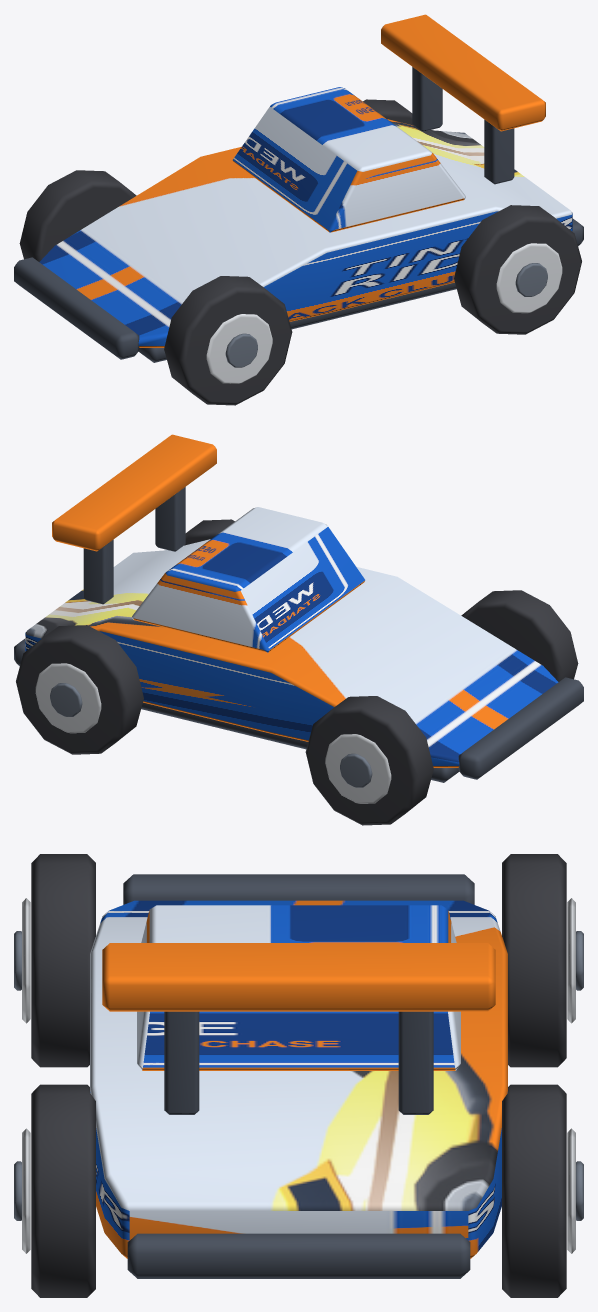
3 renders of one model, top to bottom at view 1: azimuth 30°, elevation 25°; view 2: azimuth 150°, elevation 25°; view 3: azimuth 270°, elevation 25°, orthographic. The views are drawn at different scales.
Visible parts, largest first — view 1: TC-02_connected_shell, TC-02_cabin, Tire, Tire.002, rear airfoil, Tire.001, front bumper, Rim, Rim.002, wing support, underbody, wing support.001 (+3 smaller); view 2: TC-02_connected_shell, TC-02_cabin, Tire.001, Tire.003, rear airfoil, Tire, front bumper, Rim.001, Rim.003, wing support.001, underbody, wing support (+3 smaller); view 3: TC-02_connected_shell, rear airfoil, TC-02_cabin, rear bumper, Tire.002, Tire.003, Tire, Tire.001, front bumper, wing support, wing support.001, Rim (+3 smaller).
Part boxes in pixels (x1=…): TC-02_connected_shell: x1=39, y1=119, x2=572, y2=347; TC-02_cabin: x1=232, y1=87, x2=465, y2=232; Tire: x1=164, y1=276, x2=292, y2=405; Tire.002: x1=454, y1=205, x2=581, y2=334; rear airfoil: x1=381, y1=14, x2=545, y2=131; Tire.001: x1=19, y1=170, x2=136, y2=261; front bumper: x1=14, y1=257, x2=139, y2=359; Rim: x1=206, y1=314, x2=272, y2=383; Rim.002: x1=496, y1=243, x2=562, y2=313; wing support: x1=484, y1=119, x2=514, y2=184; underbody: x1=138, y1=282, x2=456, y2=362; wing support.001: x1=412, y1=67, x2=442, y2=131; TC-02_connected_shell: x1=25, y1=539, x2=558, y2=767; TC-02_cabin: x1=132, y1=507, x2=365, y2=652; Tire.001: x1=305, y1=696, x2=433, y2=825; Tire.003: x1=16, y1=625, x2=143, y2=754; rear airfoil: x1=52, y1=434, x2=216, y2=551; Tire: x1=461, y1=590, x2=578, y2=681; front bumper: x1=458, y1=677, x2=583, y2=779; Rim.001: x1=325, y1=734, x2=391, y2=803; Rim.003: x1=35, y1=663, x2=101, y2=733; wing support.001: x1=83, y1=539, x2=113, y2=604; underbody: x1=141, y1=702, x2=459, y2=782; wing support: x1=155, y1=487, x2=185, y2=551; TC-02_connected_shell: x1=90, y1=900, x2=507, y2=1258; rear airfoil: x1=102, y1=943, x2=495, y2=1011; TC-02_cabin: x1=137, y1=905, x2=460, y2=1070; rear bumper: x1=127, y1=1233, x2=470, y2=1278; Tire.002: x1=31, y1=1084, x2=95, y2=1297; Tire.003: x1=502, y1=1084, x2=566, y2=1297; Tire: x1=31, y1=854, x2=95, y2=1067; Tire.001: x1=502, y1=854, x2=566, y2=1067; front bumper: x1=123, y1=874, x2=474, y2=904; wing support: x1=164, y1=1011, x2=199, y2=1114; wing support.001: x1=398, y1=1011, x2=433, y2=1114; Rim: x1=22, y1=898, x2=30, y2=1023.
Size of the model in its own units: 355 by 152 by 229.
